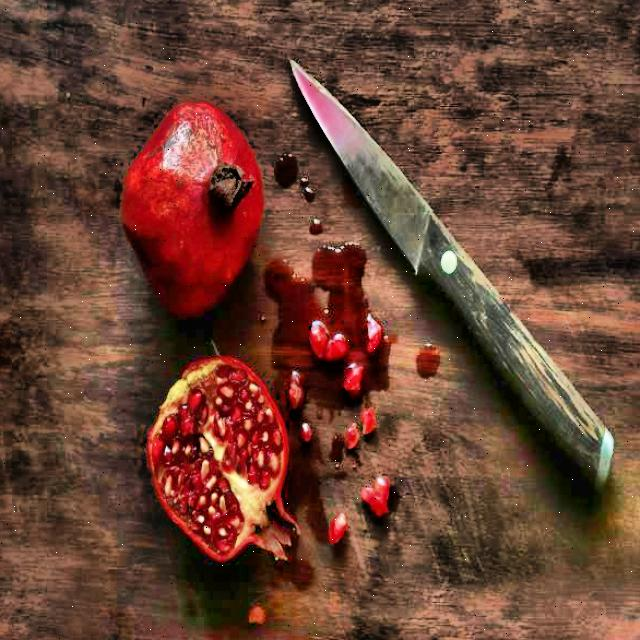knife: (289, 47, 628, 495)
